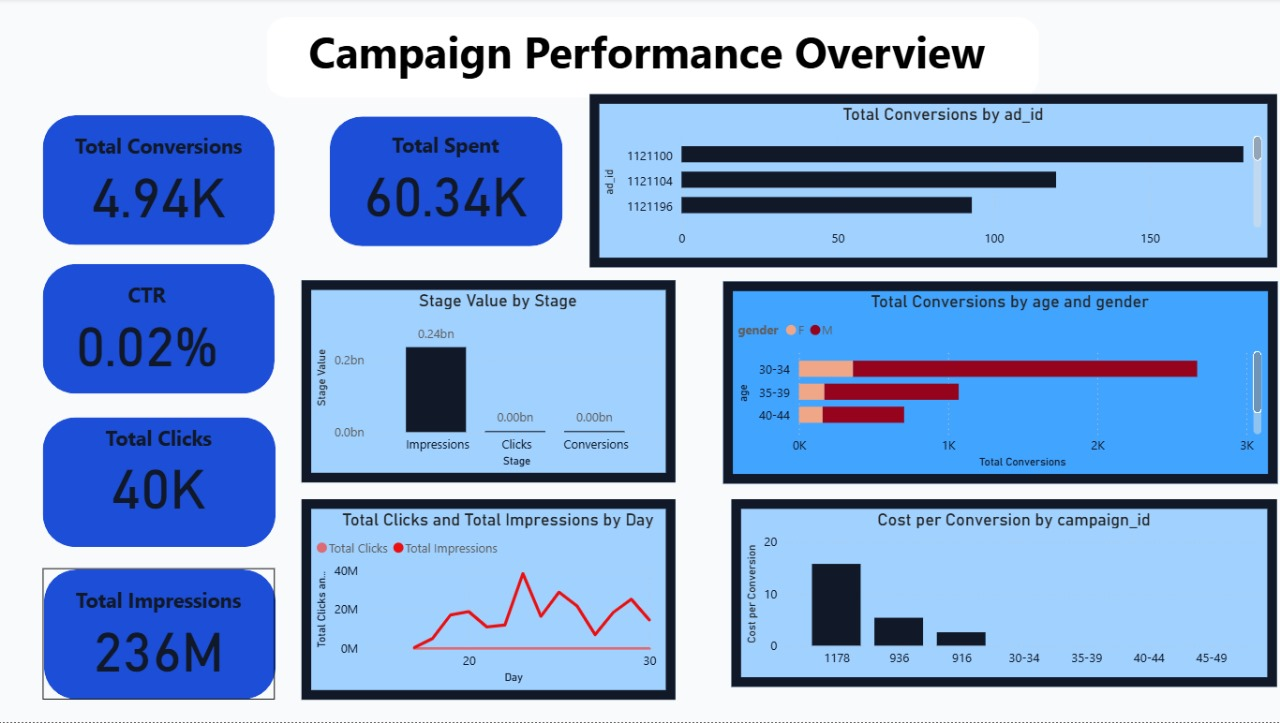

The dashboard page shown, as its layout file describes it:
{"tool":"powerbi","page":{"name":"Page 1","canvas":[1280,720],"ordinal":0},"visuals":[{"type":"shape","box":[45.3,567.4,230.2,129.1],"z":0},{"type":"shape","box":[329.1,117.4,231.4,129.1],"z":1000},{"type":"shape","box":[44.2,416.3,231.4,129.1],"z":2000},{"type":"shape","box":[44.2,116.3,230.2,129.1],"z":3000},{"type":"shape","box":[44.2,264,230.2,129.1],"z":4000},{"type":"shape","box":[266.7,19.2,767.1,80.2],"z":5000},{"type":"textbox","box":[287.7,18.2,713.7,81],"z":6000},{"type":"cardVisual","fields":{"Data":["AdsData.Total Impressions"]},"box":[44.2,566.3,230.2,130.2],"z":7000},{"type":"cardVisual","fields":{"Data":["AdsData.Total Clicks"]},"box":[44.2,405.8,230.2,130.2],"z":8000},{"type":"cardVisual","fields":{"Data":["AdsData.Total Spent"]},"box":[329.1,115.1,230.2,130.2],"z":9000},{"type":"cardVisual","fields":{"Data":["AdsData.Total Conversions"]},"box":[44.2,116.3,230.2,130.2],"z":10000},{"type":"cardVisual","fields":{"Data":["AdsData.CTR"]},"box":[32.6,264,230.2,130.2],"z":11000},{"type":"lineChart","fields":{"Category":["AdsData.reporting_end.Variation.Date Hierarchy.Year","AdsData.reporting_end.Variation.Date Hierarchy.Quarter","AdsData.reporting_end.Variation.Date Hierarchy.Month","AdsData.reporting_end.Variation.Date Hierarchy.Day"],"Y":["AdsData.Total Clicks","AdsData.Total Impressions"]},"box":[301.2,497.7,370.9,198.8],"z":12000},{"type":"columnChart","fields":{"Category":["Stages.Stage"],"Y":["AdsData.Stage Value"]},"box":[301.2,280.2,370.9,201.2],"z":13000},{"type":"barChart","fields":{"Category":["AdsData.ad_id"],"Y":["AdsData.Total Conversions"]},"box":[587.2,95.3,682.6,172.1],"z":14000},{"type":"clusteredColumnChart","fields":{"Category":["AdsData.campaign_id"],"Y":["AdsData.Cost per Conversion"]},"box":[727.9,497.7,541.9,186],"z":15000},{"type":"barChart","fields":{"Series":["AdsData.gender"],"Category":["AdsData.age"],"Y":["AdsData.Total Conversions"]},"box":[719.8,281.4,550,201.2],"z":16000}]}

Visuals, with their boxes in screenshot pixels (x1, y1, x2, y2), scaled from the page's 1280x720 canvas onto the 1280x723 screenshot:
shape: <box>45,570,276,699</box>
shape: <box>329,118,560,248</box>
shape: <box>44,418,276,548</box>
shape: <box>44,117,274,246</box>
shape: <box>44,265,274,395</box>
shape: <box>267,19,1034,100</box>
textbox: <box>288,18,1001,100</box>
cardVisual - AdsData.Total Impressions: <box>44,569,274,699</box>
cardVisual - AdsData.Total Clicks: <box>44,407,274,538</box>
cardVisual - AdsData.Total Spent: <box>329,116,559,246</box>
cardVisual - AdsData.Total Conversions: <box>44,117,274,248</box>
cardVisual - AdsData.CTR: <box>33,265,263,396</box>
lineChart - AdsData.reporting_end.Variation.Date Hierarchy.Year x AdsData.reporting_end.Variation.Date Hierarchy.Quarter: <box>301,500,672,699</box>
columnChart - Stages.Stage x AdsData.Stage Value: <box>301,281,672,483</box>
barChart - AdsData.ad_id x AdsData.Total Conversions: <box>587,96,1270,269</box>
clusteredColumnChart - AdsData.campaign_id x AdsData.Cost per Conversion: <box>728,500,1270,687</box>
barChart - AdsData.gender x AdsData.age: <box>720,283,1270,485</box>
